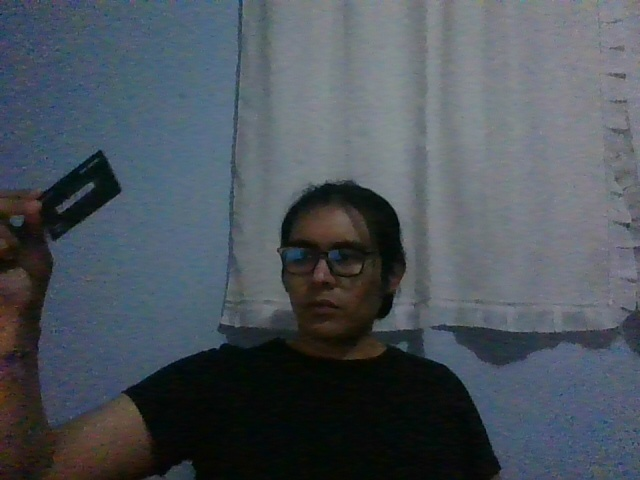tarjeta: (34, 149, 123, 243)
